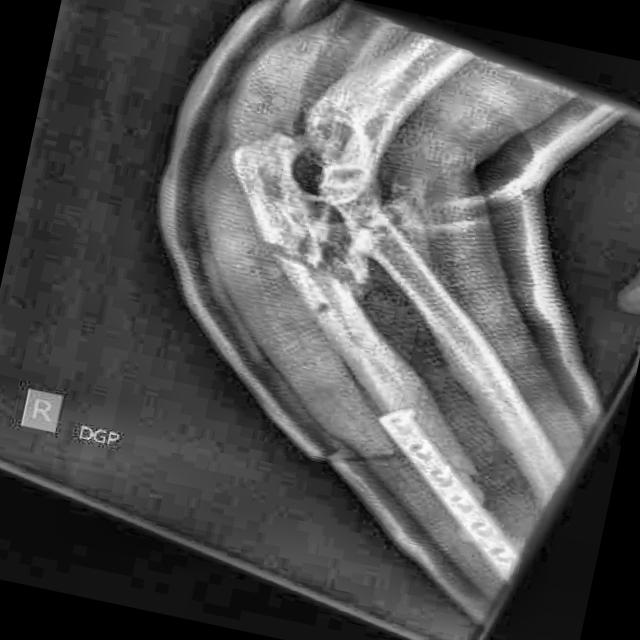elbow positive: (217, 150, 402, 318)
